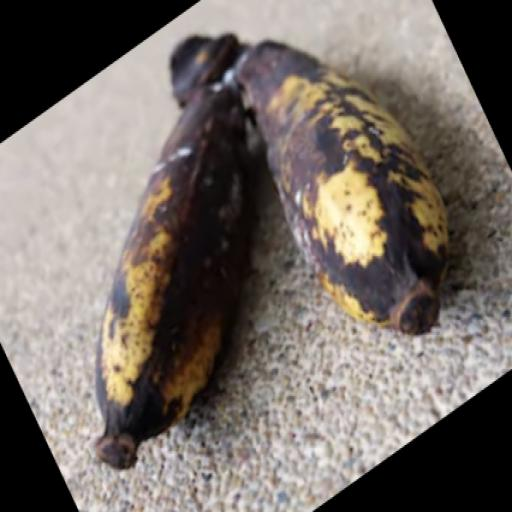banana-overripe: (82, 0, 452, 512)
